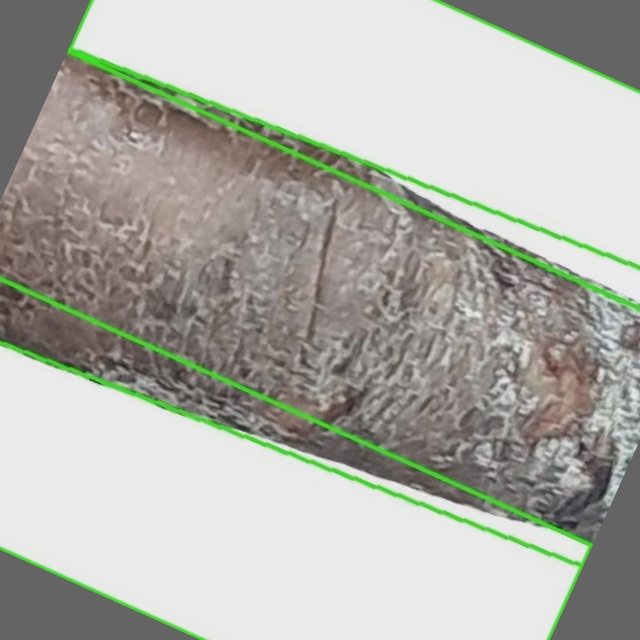Eczema: (0, 48, 639, 567), (0, 278, 591, 639), (68, 0, 639, 308)
